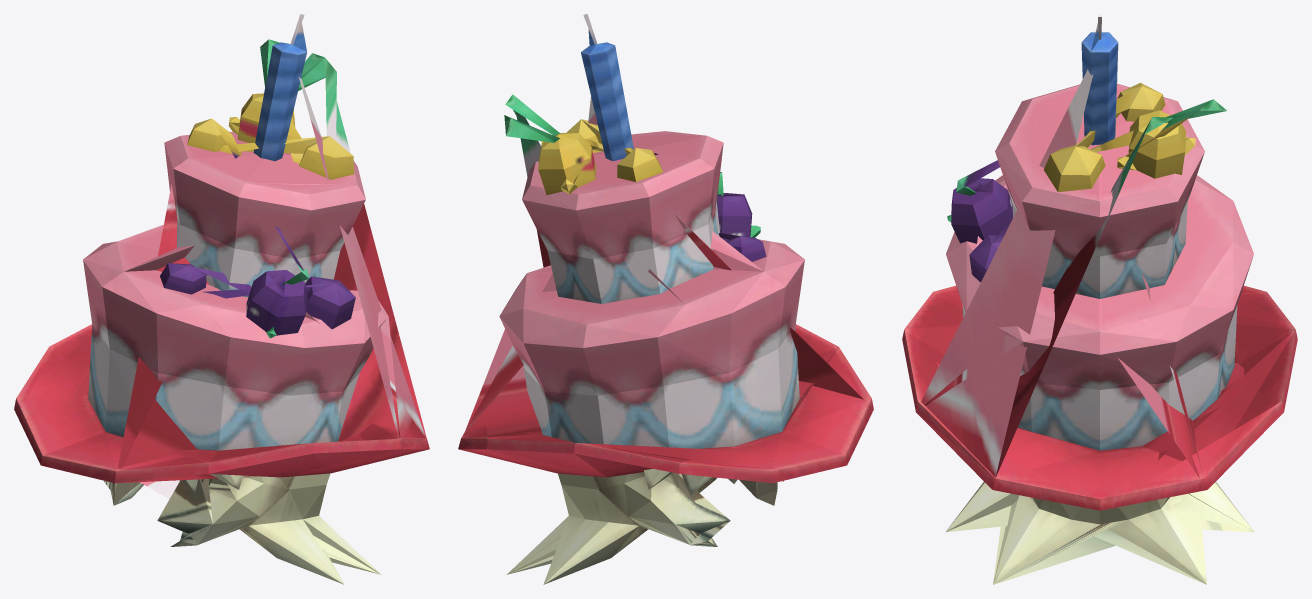
File: Cat_cakeHat.obj
3 renders of one model, left to right at view 1: azimuth 30°, elevation 25°; view 2: azimuth 150°, elevation 25°; view 3: azimuth 270°, elevation 25°, orthographic. The views are drawn at different scales.
Visible parts, largest first — view 1: Cat_cakeHat_tri; view 2: Cat_cakeHat_tri; view 3: Cat_cakeHat_tri.
Part boxes in pixels (left/top/right/bottom): Cat_cakeHat_tri: left=14, top=14, right=429, bottom=584; Cat_cakeHat_tri: left=458, top=14, right=873, bottom=584; Cat_cakeHat_tri: left=902, top=14, right=1297, bottom=584.
Size of the model in its own units: 0.4657 by 0.6491 by 0.4189.
Materials: 1 (1 with a texture image).
